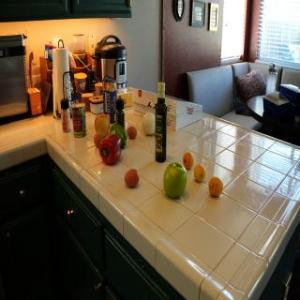bell_pepper: (100, 136, 120, 166), (111, 123, 125, 145)
egg: (123, 162, 138, 190), (128, 126, 136, 138), (94, 133, 102, 145)
onion: (142, 115, 158, 136)
